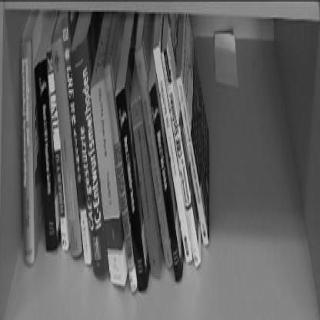book-spine: (70, 35, 110, 279), (160, 47, 202, 270), (152, 43, 193, 263), (134, 44, 174, 269), (101, 60, 139, 291), (60, 14, 92, 264), (89, 80, 126, 285), (50, 34, 83, 256), (114, 87, 148, 293), (148, 84, 183, 280), (175, 71, 210, 245), (129, 96, 161, 277), (45, 49, 69, 249), (34, 56, 58, 252), (19, 39, 35, 264)
